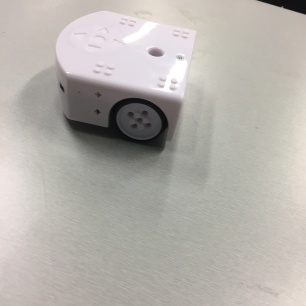thymio: (49, 6, 202, 151)
